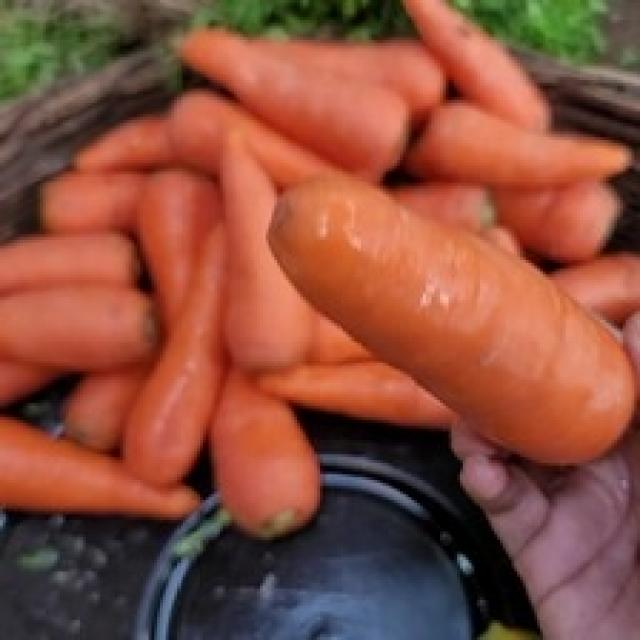carrot: (0, 0, 634, 531), (269, 171, 629, 457)
